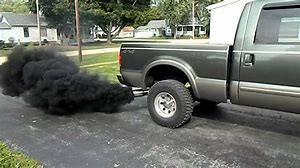smoke: (1, 48, 135, 115)
